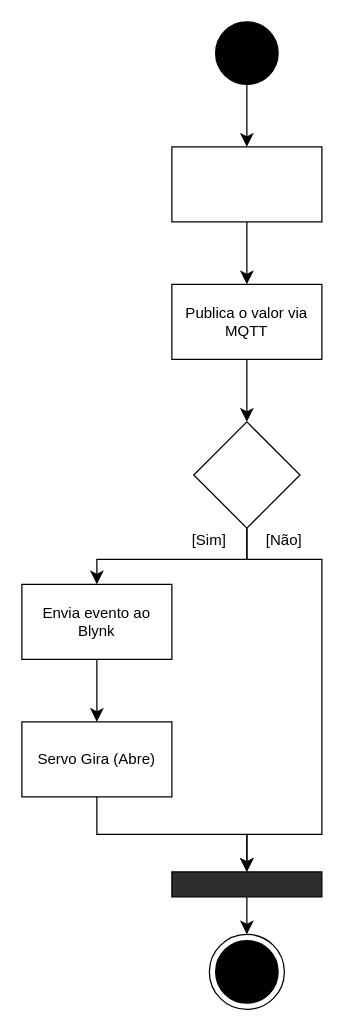
The diagram is 356 pixels wide and 1031 high, and some of its shapes have lost their labels. The shapes that lost their labels are listed below. From the top down, each one's centre as x and y in pixels, then its label:
[246,184]: Leitura do sensor
[246,474]: Valor menor que definido
